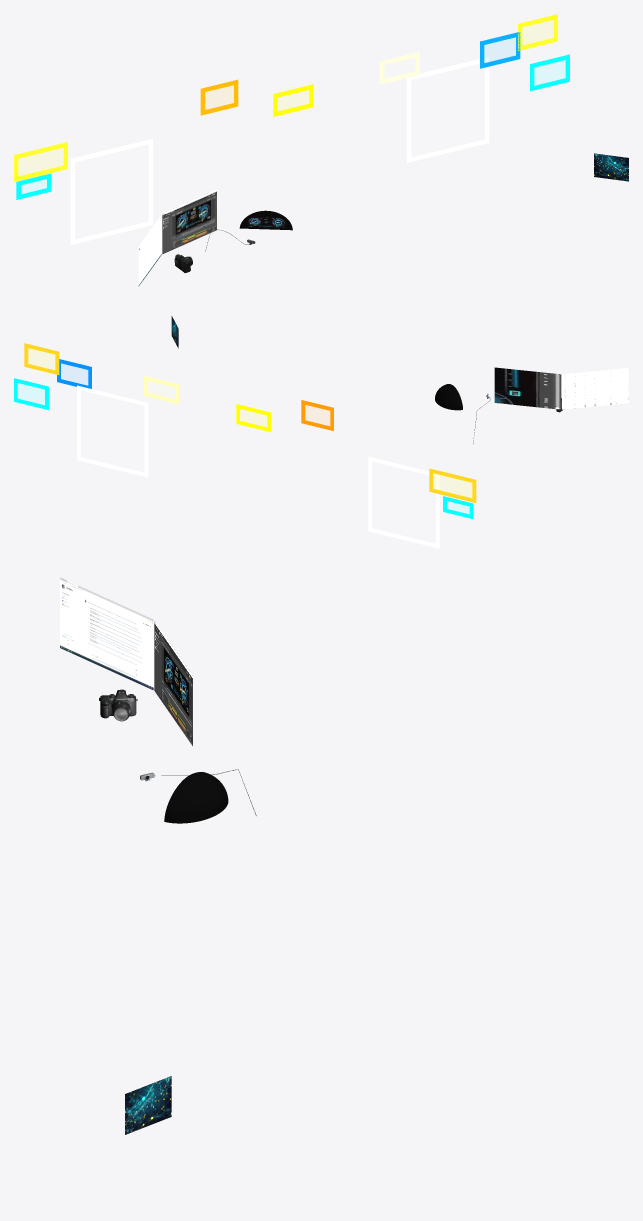
File: ai-core-opt.glb
The picture shows the model from 3 angles, top to bottom: view 1: azimuth 30°, elevation 25°; view 2: azimuth 150°, elevation 25°; view 3: azimuth 270°, elevation 25°; orthographic projection. The views are drawn at different scales.
Visible parts, largest first — view 1: Plane.006, Screen.004, Plane.010, Plane.014, Screen.002, Plane.005, Sphere, Plane.012, Plane.020, Plane.018, Plane.016; view 2: Screen.004, Plane.006, Screen.002, Plane.010, Plane.014, Sphere, Plane.012, Plane.016, Plane.018, Plane.020; view 3: Screen.002, Screen.004, Sphere, Plane.005, Mesh_0.003.
Part boxes in pixels (<box>): Plane.006: <box>70,57,489,244</box>; Screen.004: <box>162,189,216,254</box>; Plane.010: <box>14,14,557,181</box>; Plane.014: <box>16,54,569,199</box>; Screen.002: <box>138,214,161,286</box>; Plane.005: <box>594,153,628,181</box>; Sphere: <box>239,210,292,230</box>; Plane.012: <box>200,79,238,115</box>; Plane.020: <box>480,32,520,68</box>; Plane.018: <box>379,52,419,84</box>; Plane.016: <box>273,84,313,116</box>; Screen.004: <box>494,367,561,409</box>; Plane.006: <box>77,385,439,548</box>; Screen.002: <box>562,368,628,409</box>; Plane.010: <box>24,343,476,502</box>; Plane.014: <box>14,378,473,518</box>; Sphere: <box>435,384,462,410</box>; Plane.012: <box>301,400,333,430</box>; Plane.016: <box>236,404,271,432</box>; Plane.018: <box>144,376,178,403</box>; Plane.020: <box>57,359,91,388</box>; Screen.002: <box>60,577,153,690</box>; Screen.004: <box>154,620,192,746</box>; Sphere: <box>164,772,228,823</box>; Plane.005: <box>125,1076,171,1134</box>; Mesh_0.003: <box>99,689,137,721</box>.
Bounding box in the file's own units: 8.22 × 1.77 × 3.76.
21 materials, 6 textured.
